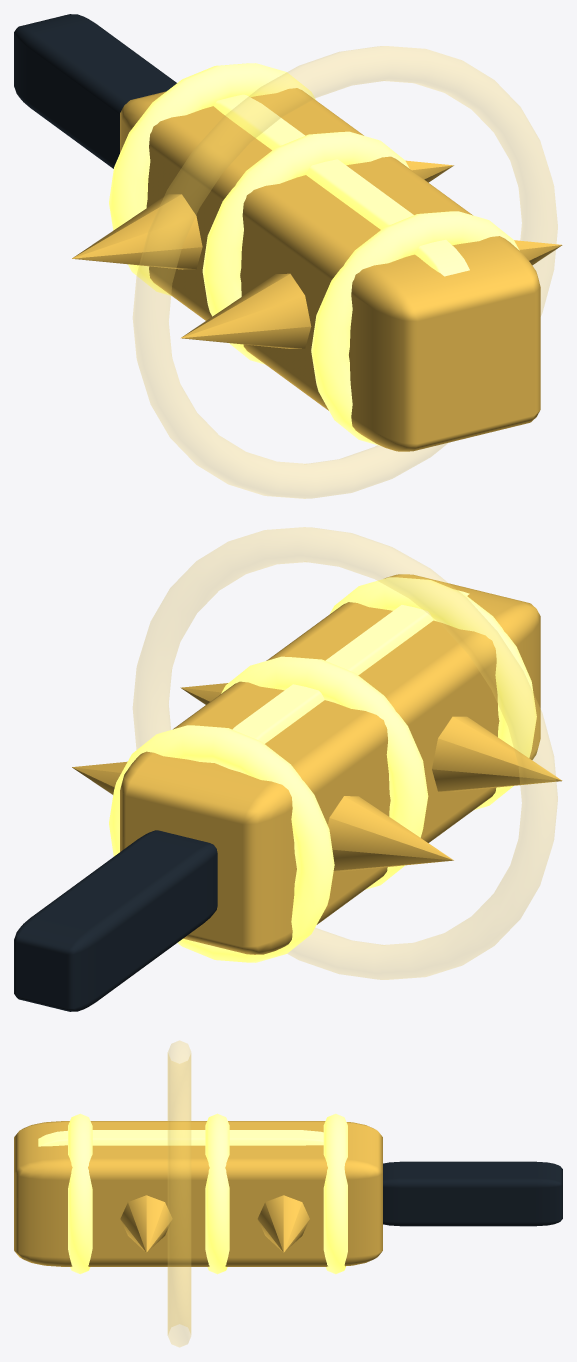
The model's file is bat-10.glb.
3 views of the same model, one above another, from view 1: azimuth 30°, elevation 25°; view 2: azimuth 150°, elevation 25°; view 3: azimuth 270°, elevation 25° (orthographic). The views are drawn at different scales.
Bounding box in the file's own units: 0.7475 × 0.7475 × 1.33.
